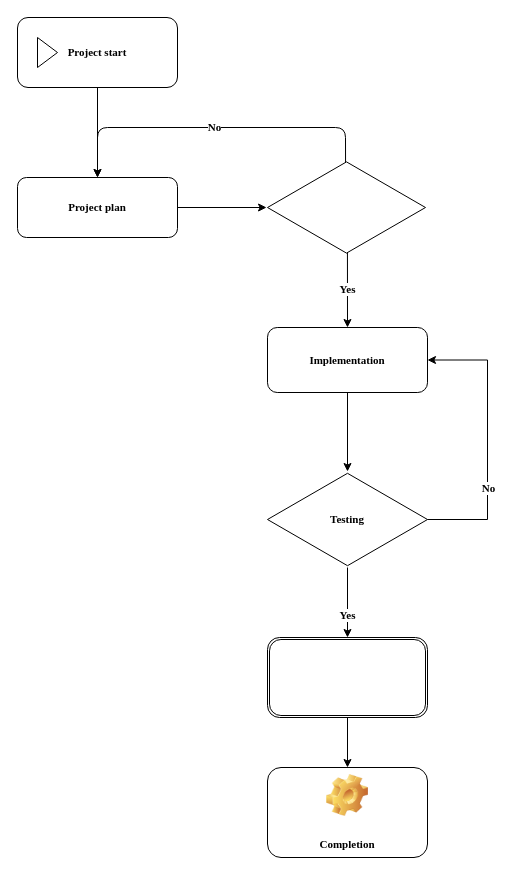
Some shapes in this 513 by 875 pixel diagram are drawn without their labels. The centre of each missing label's shape, as x and y in pixels:
Project review: the point at 346,207
Training: the point at 347,677
